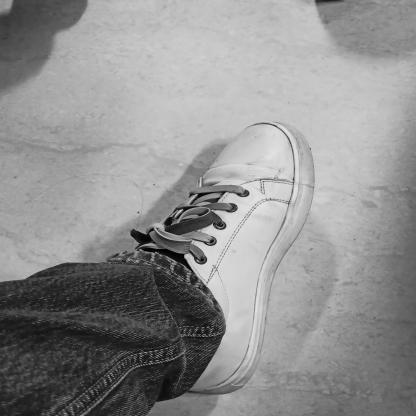ankle: (204, 312, 215, 320)
heel: (220, 388, 226, 394)
left_foot: (148, 123, 317, 397)
pinky: (231, 144, 236, 148)
toe: (282, 137, 288, 141)
